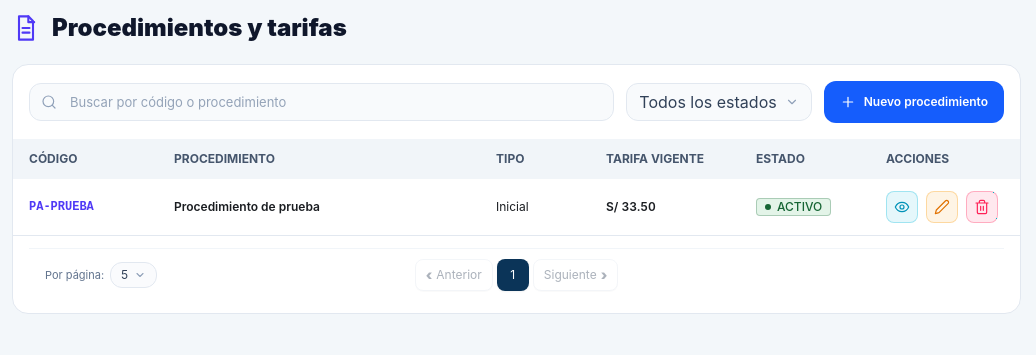
Test: elimina solo después de confirmar
Click the button named "Eliminar PA-PRUEBA": (982,207) top-left (966, 191), bottom-right (998, 223)
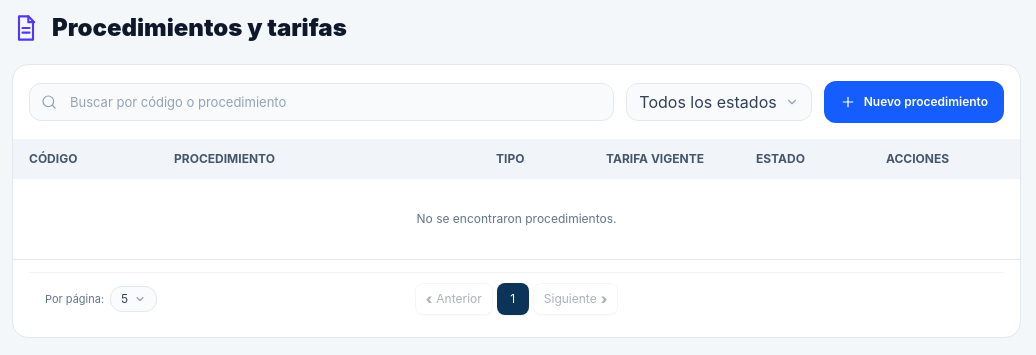
Expected: the table shows "No se encontraron", top-left (416, 211), bottom-right (616, 226)
